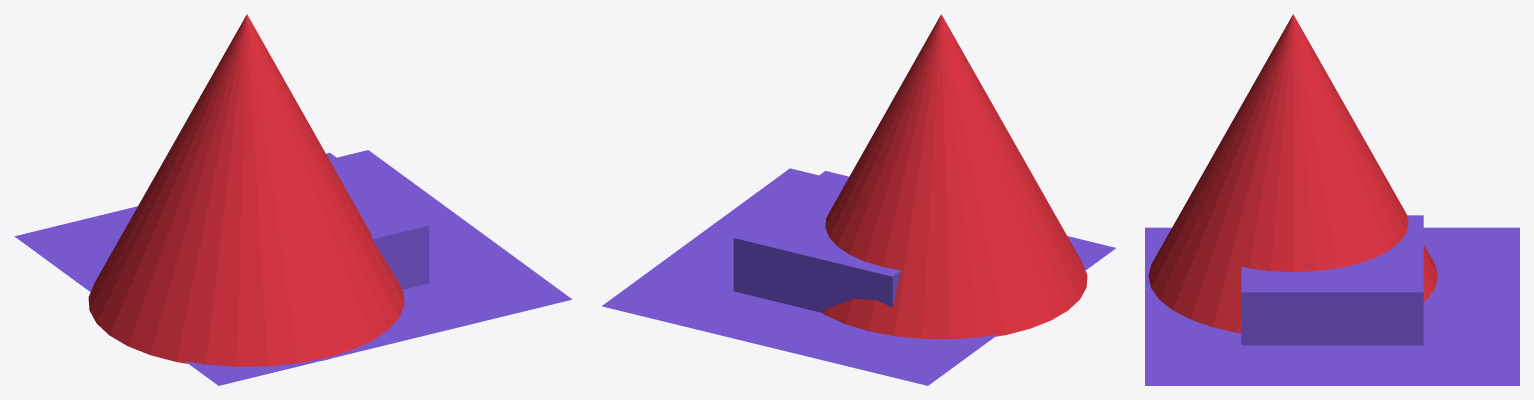
The picture shows the model from 3 angles, left to right: view 1: azimuth 30°, elevation 25°; view 2: azimuth 150°, elevation 25°; view 3: azimuth 270°, elevation 25°; orthographic projection. The views are drawn at different scales.
Parts seen in each view (by area): view 1: Cone, Plane; view 2: Cone, Plane; view 3: Plane, Cone.
Boxes of the visible parts, bbox=[...] form: Cone: bbox=[88, 14, 404, 366]; Plane: bbox=[14, 150, 572, 385]; Cone: bbox=[822, 14, 1087, 339]; Plane: bbox=[602, 168, 1115, 385]; Plane: bbox=[1145, 215, 1519, 385]; Cone: bbox=[1148, 14, 1437, 333].
Bounding box in the file's own units: 20.46 × 14.72 × 18.94.
